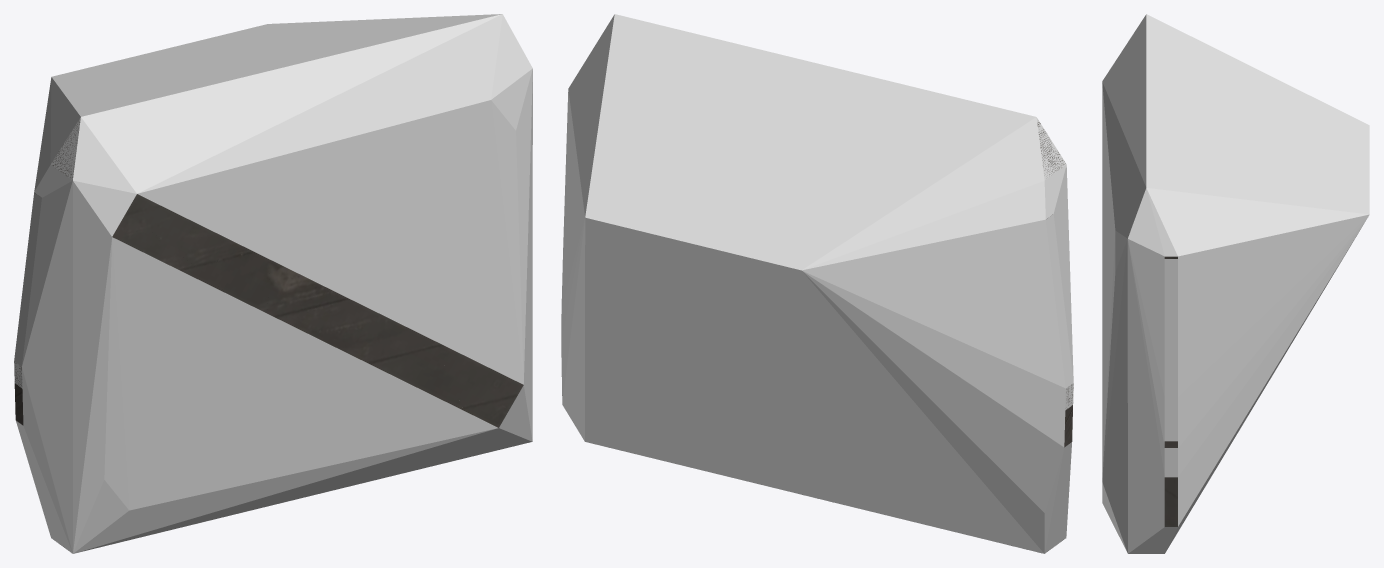
File: barricade.webp.glb
3 views of the same model, side by side, from view 1: azimuth 30°, elevation 25°; view 2: azimuth 150°, elevation 25°; view 3: azimuth 270°, elevation 25° (orthographic). The views are drawn at different scales.
Parts seen in each view (by area): view 1: COL, FRAC_5, FRAC_6, FRAC_7, FRAC_0, FRAC_4; view 2: COL; view 3: COL, FRAC_0.
Part boxes in pixels (x1,y1,x2,y2): COL: (14, 14, 532, 553); FRAC_5: (127, 194, 270, 313); FRAC_6: (267, 260, 371, 357); FRAC_7: (357, 310, 462, 409); FRAC_0: (435, 341, 523, 427); FRAC_4: (14, 211, 227, 425); COL: (561, 14, 1073, 553); COL: (1102, 14, 1369, 553); FRAC_0: (1164, 256, 1177, 526).
Bounding box in the file's own units: 1.87 × 1.5 × 1.01.
Materials: 1 (1 with a texture image).
